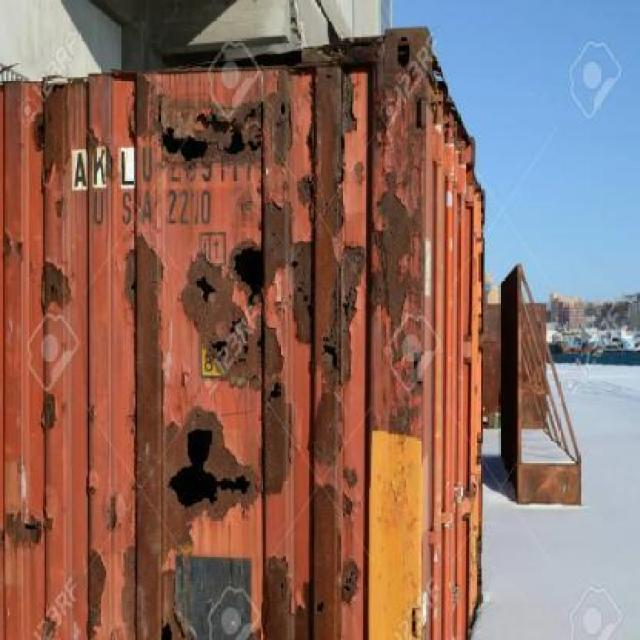hole: (166, 424, 255, 513), (160, 95, 268, 166), (230, 243, 267, 312), (195, 275, 218, 309), (157, 615, 177, 640), (323, 344, 340, 373), (257, 313, 266, 366), (343, 569, 360, 597), (212, 341, 231, 359), (269, 381, 283, 404), (23, 521, 40, 534), (50, 86, 66, 97), (344, 301, 352, 323), (317, 601, 326, 618), (308, 306, 317, 323), (280, 101, 288, 117), (291, 260, 300, 271), (52, 284, 60, 295), (277, 120, 286, 129), (244, 346, 250, 359), (40, 126, 48, 135), (240, 358, 249, 366), (132, 281, 137, 295), (244, 330, 250, 341), (7, 237, 12, 248), (18, 243, 24, 252), (304, 295, 310, 304), (231, 327, 237, 335), (237, 318, 243, 326), (233, 320, 238, 328), (281, 583, 286, 591), (298, 287, 304, 293), (303, 283, 308, 286), (327, 204, 330, 209), (335, 209, 338, 212)
rust: (123, 232, 260, 640), (309, 29, 428, 469), (181, 257, 294, 500), (251, 485, 359, 640), (370, 170, 424, 444), (261, 203, 317, 345), (266, 67, 295, 170), (87, 548, 107, 640), (132, 75, 152, 141), (41, 394, 58, 434), (298, 178, 315, 206), (107, 495, 118, 534), (87, 128, 100, 157), (342, 466, 358, 489), (343, 492, 354, 517)
